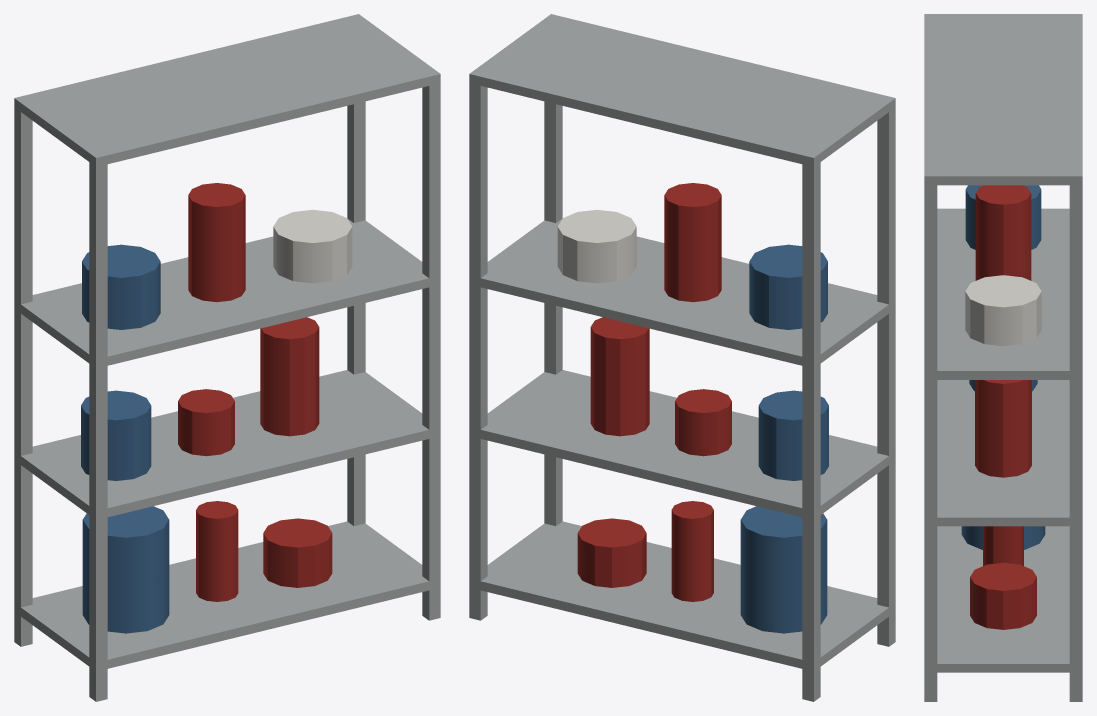
File: prop_shelving_janitor.glb
3 renders of one model, left to right at view 1: azimuth 30°, elevation 25°; view 2: azimuth 150°, elevation 25°; view 3: azimuth 270°, elevation 25°, orthographic. The views are drawn at different scales.
Visible parts, largest first — view 1: Shelving; view 2: Shelving; view 3: Shelving.
Part boxes in pixels (x1,y1,x2,y2): Shelving: (14,14,440,701); Shelving: (469,14,895,701); Shelving: (924,14,1082,701).
Size of what is drawn, in the model's own units: 1.19 by 1.79 by 0.49.
